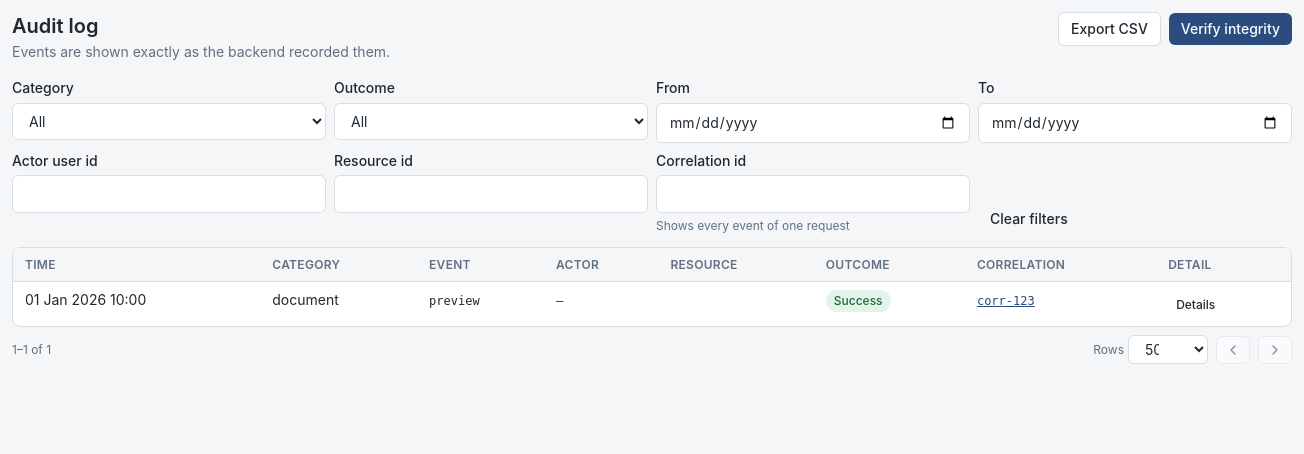
Test case: audit integrity › reports a verified chain
This screenshot has width=1304, height=454.
Click the button "Verify integrity" at (1230, 29), box [1169, 13, 1292, 45]
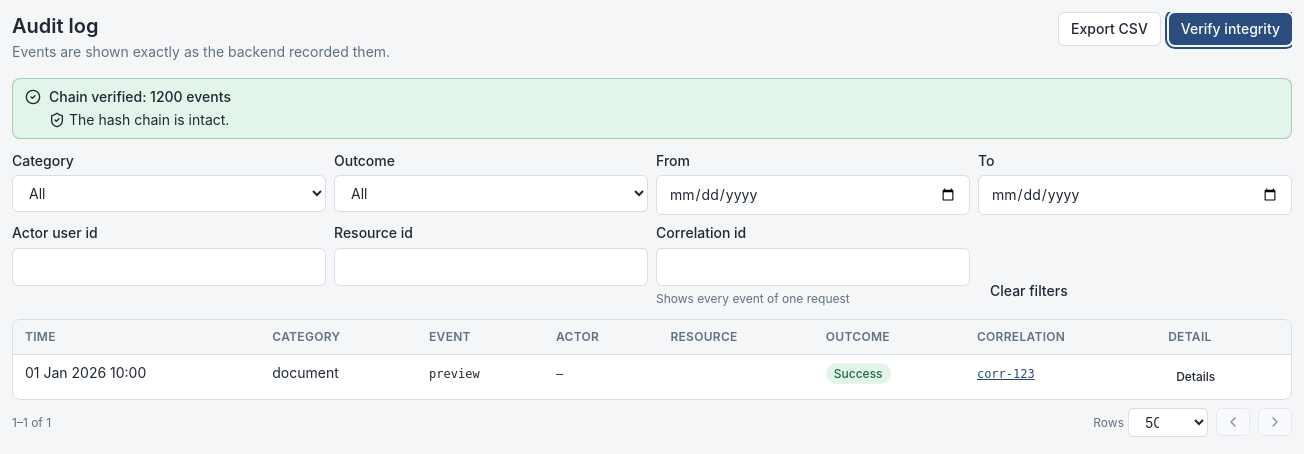
Now the text "Chain verified: 1200 events" is shown, box [49, 87, 231, 108]
